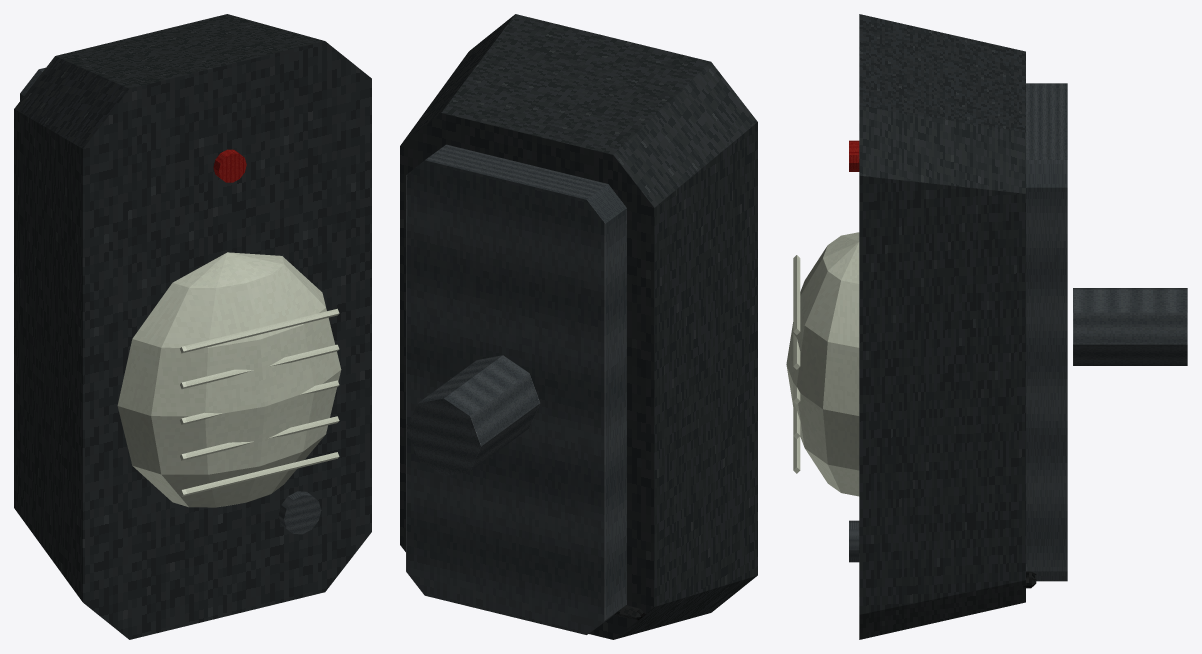
File: blender_motion_sensor_3.glb
3 renders of one model, left to right at view 1: azimuth 30°, elevation 25°; view 2: azimuth 150°, elevation 25°; view 3: azimuth 270°, elevation 25°, orthographic. The views are drawn at different scales.
Parts seen in each view (by area): view 1: blender_motion_sensor_3; view 2: blender_motion_sensor_3; view 3: blender_motion_sensor_3.
Part boxes in pixels (x1,y1,x2,y2): blender_motion_sensor_3: (14, 14, 371, 639); blender_motion_sensor_3: (400, 14, 757, 639); blender_motion_sensor_3: (786, 14, 1187, 639).
Size of the model in its own units: 0.062 by 0.113 by 0.077.
5 materials, 5 textured.
